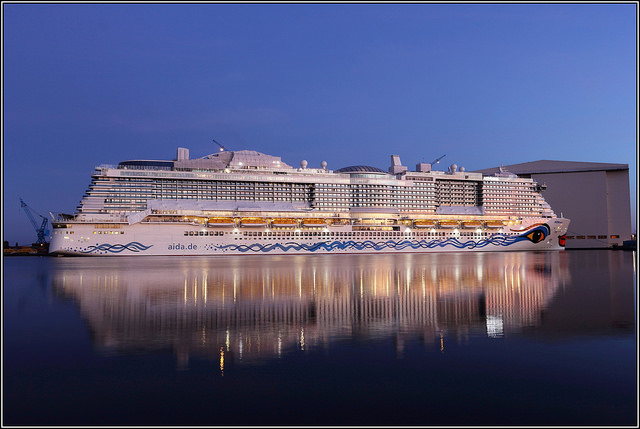cruise_ship: (48, 141, 569, 261)
